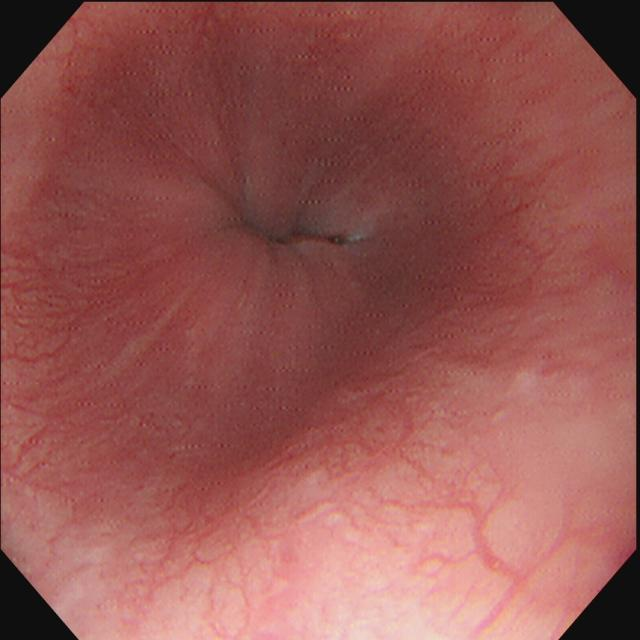I: (149, 115, 405, 322)
